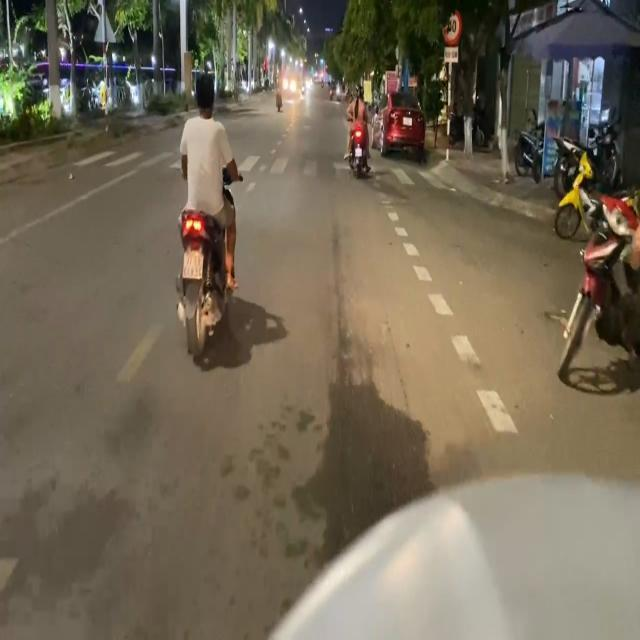walk-crossing: (92, 139, 440, 186)
